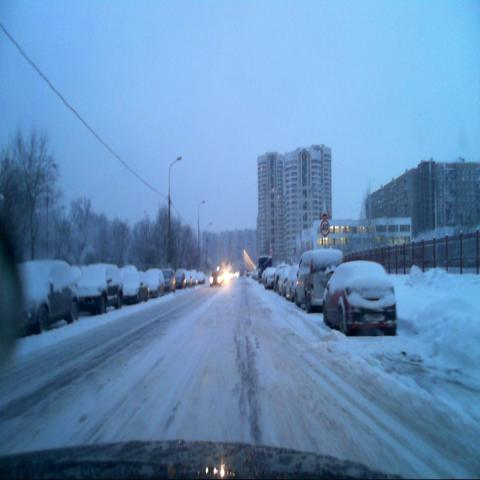1_17: (318, 199, 332, 218)
